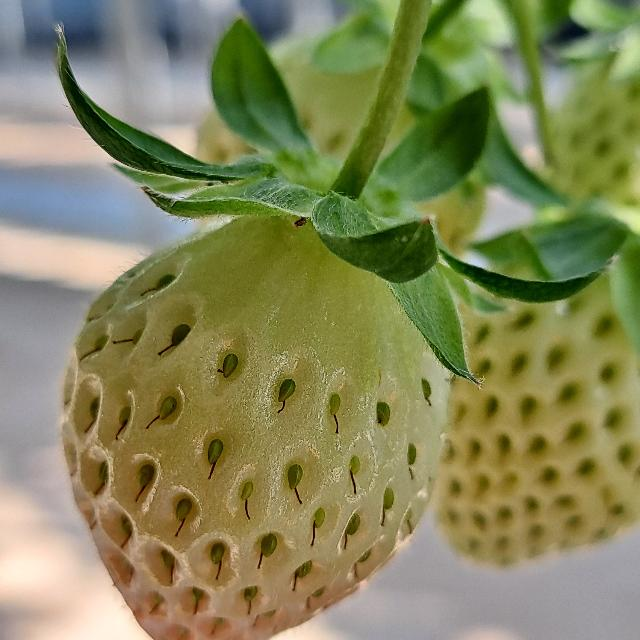Health_25: (61, 215, 450, 639)
